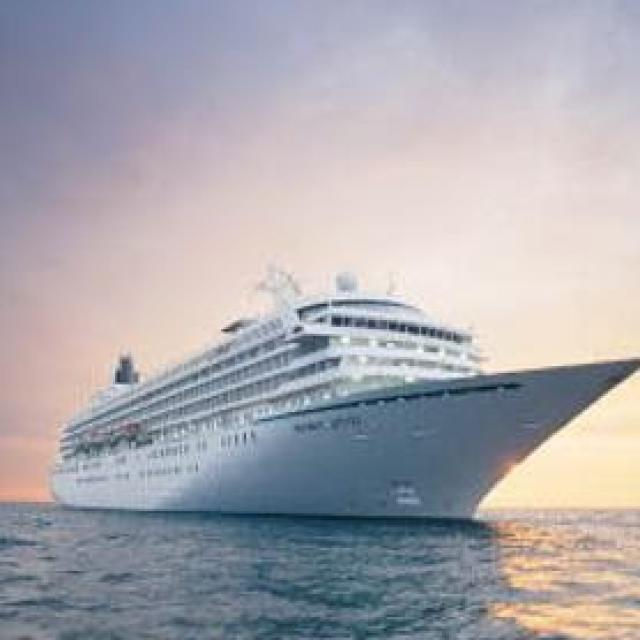passenger ship: (48, 256, 640, 518)
